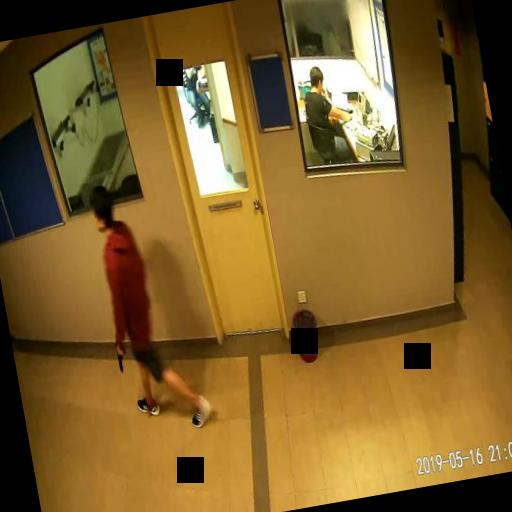Handgun: (112, 338, 126, 372)
